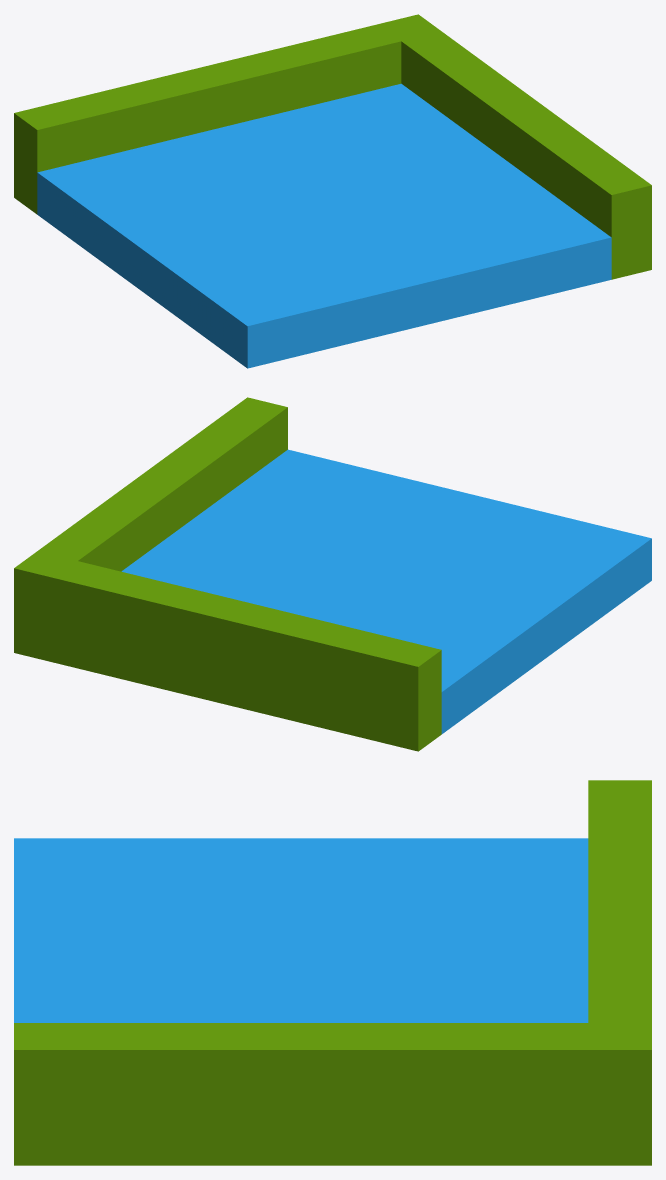
The model's file is TileWater_07.fbx.
3 views of the same model, one above another, from view 1: azimuth 30°, elevation 25°; view 2: azimuth 150°, elevation 25°; view 3: azimuth 270°, elevation 25° (orthographic). The views are drawn at different scales.
Visible parts, largest first — view 1: TileWater_07; view 2: TileWater_07; view 3: TileWater_07.
Boxes of the visible parts, <box> form: TileWater_07: <box>14,14,651,368</box>; TileWater_07: <box>14,397,651,751</box>; TileWater_07: <box>14,780,651,1165</box>.
Bounding box in the file's own units: 500 × 100 × 500.
